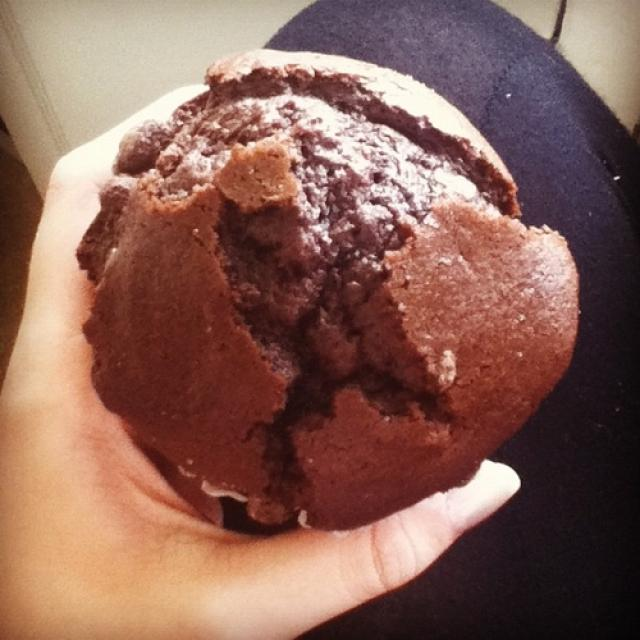炸货点心: (69, 42, 585, 540)
面包点心: (69, 42, 585, 540)
